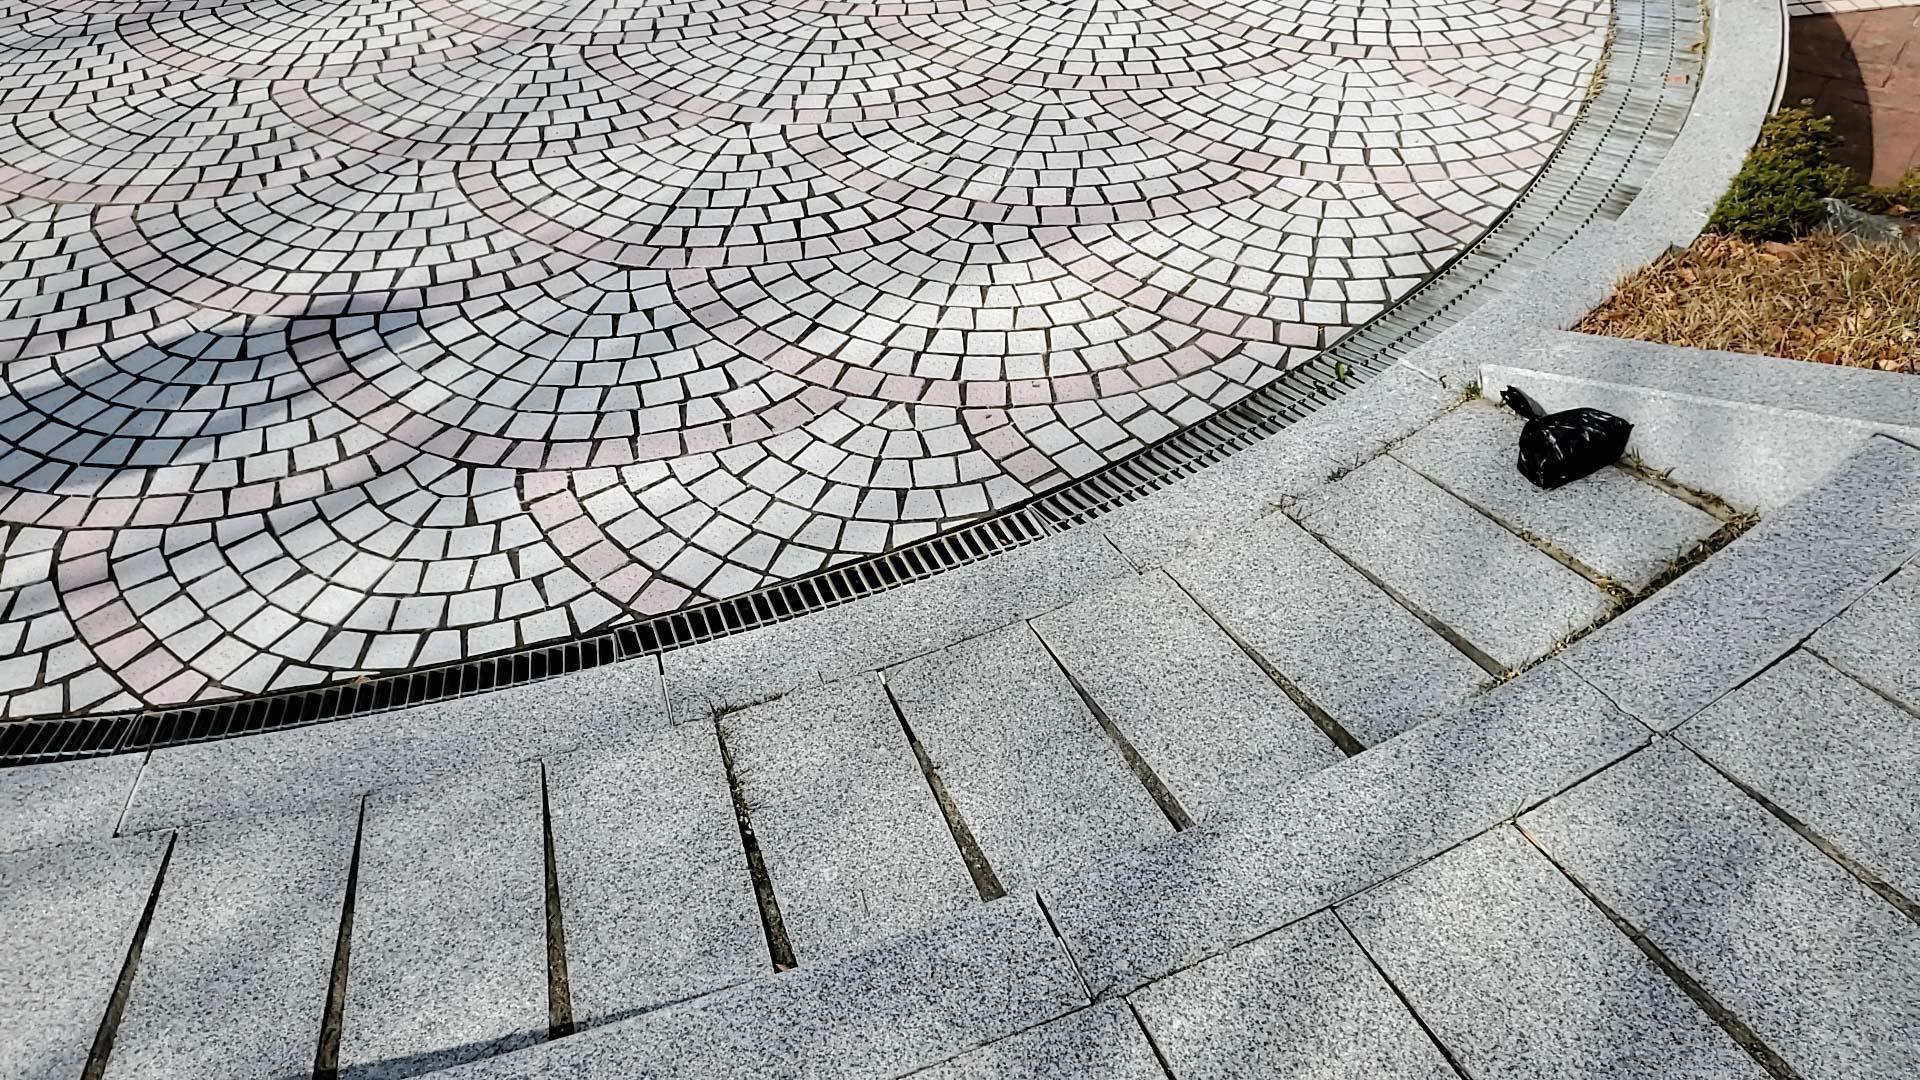black_bag: (1491, 375, 1638, 498)
